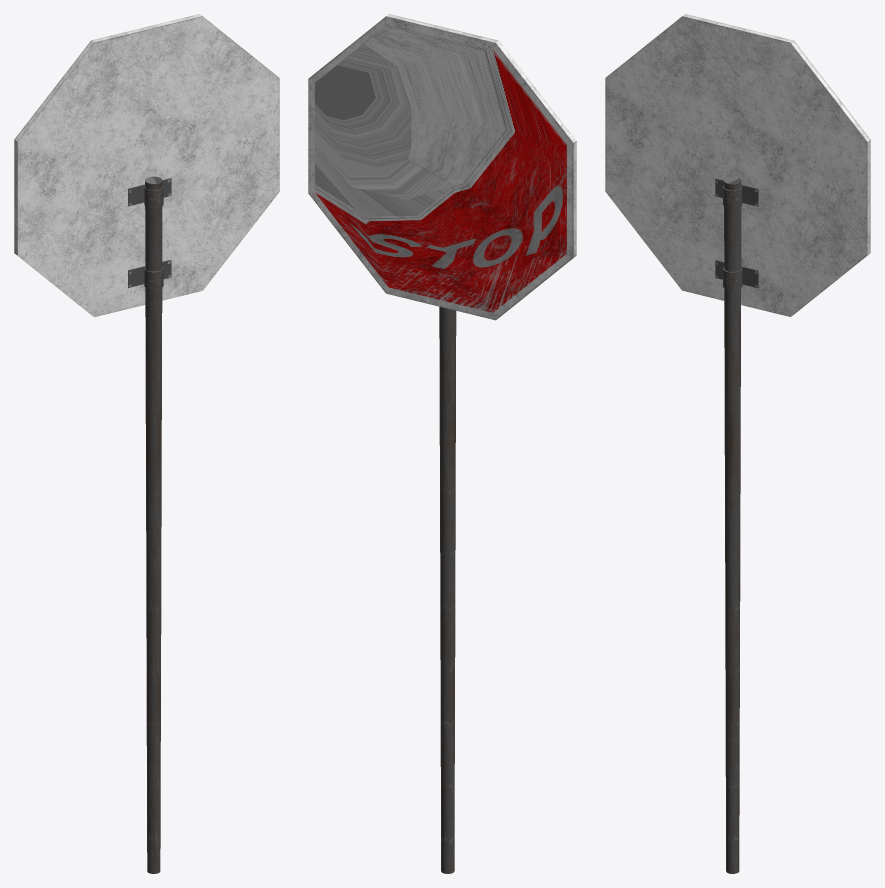
The picture shows the model from 3 angles, left to right: view 1: azimuth 30°, elevation 25°; view 2: azimuth 150°, elevation 25°; view 3: azimuth 330°, elevation 25°; orthographic projection.
Visible parts, largest first — view 1: PlacaStop; view 2: PlacaStop; view 3: PlacaStop.
Boxes of the visible parts, x1,y1,x2,y2 form: PlacaStop: (14, 14, 279, 873); PlacaStop: (308, 14, 576, 873); PlacaStop: (605, 14, 870, 873).
Size of the model in its own units: 0.00467 by 0.0143 by 0.000388.
